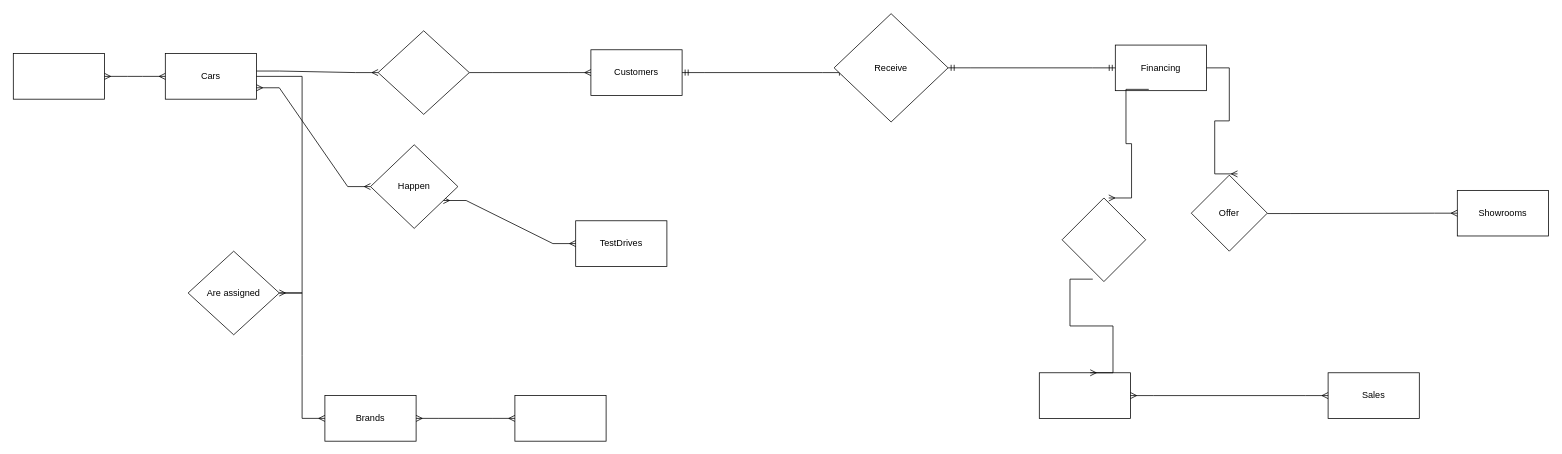
The diagram is 1562 pixels wide and 454 high, and some of its shapes have lost their labels. The shapes that lost their labels are listed below. From the top down, each one's centre as x and y in pixels, then its label:
point 58,76: Features
point 423,72: Buy
point 1103,239: Conduct
point 1084,395: Employees
point 560,418: Models
